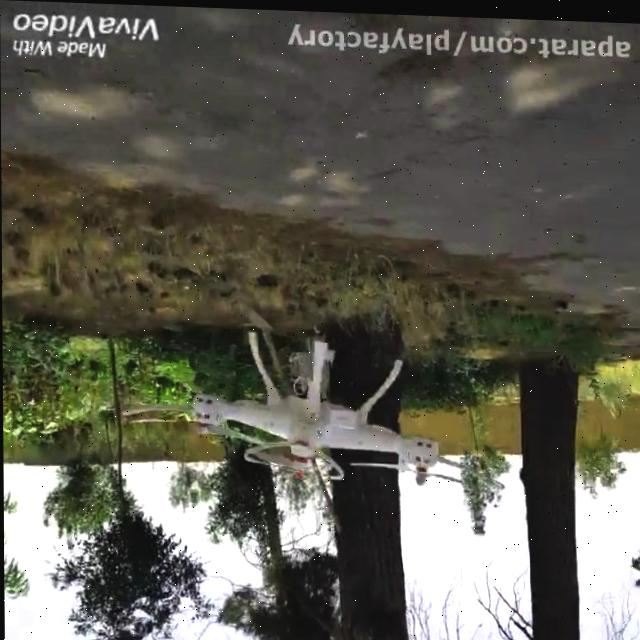drone: (120, 326, 511, 488)
